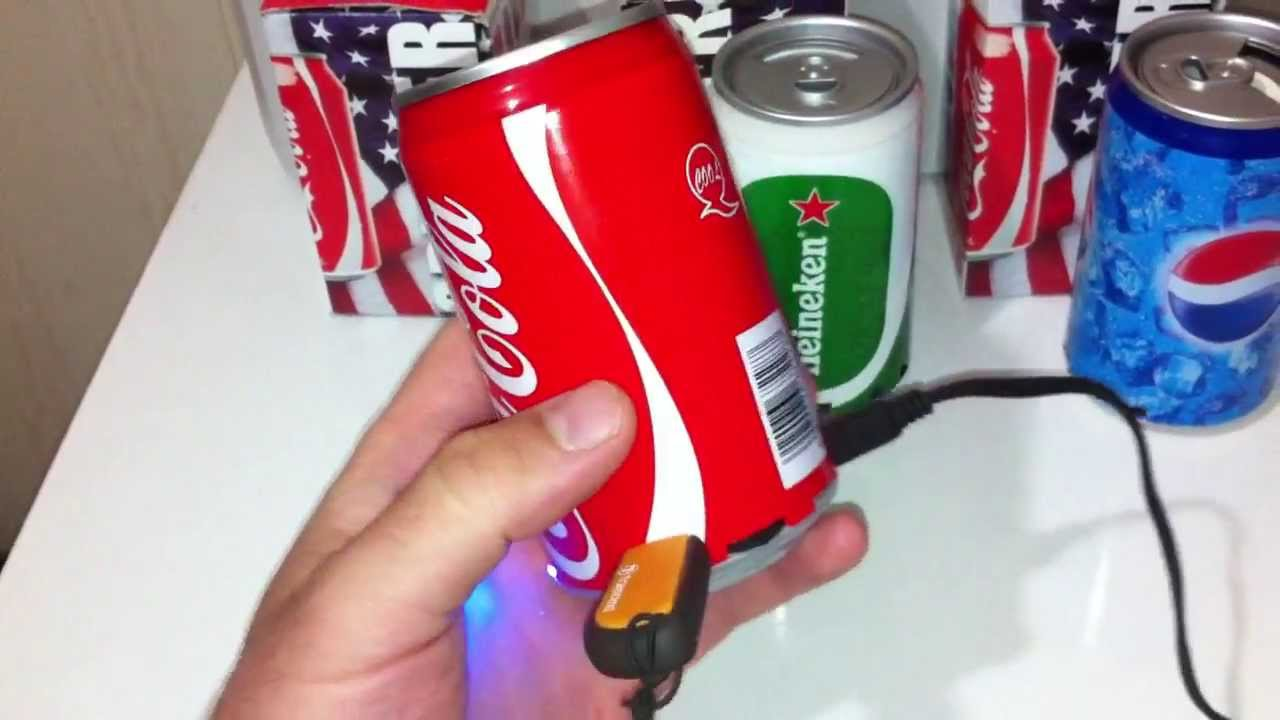can: (381, 3, 844, 611), (1061, 7, 1280, 447), (703, 11, 929, 423)
